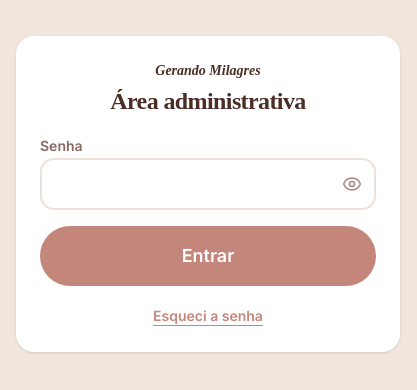
Test: AdminPage › mostra erro com senha errada e não guarda sessão
Type "errada" into the password field labelled "Senha" at (208, 184), box [40,158,376,210]
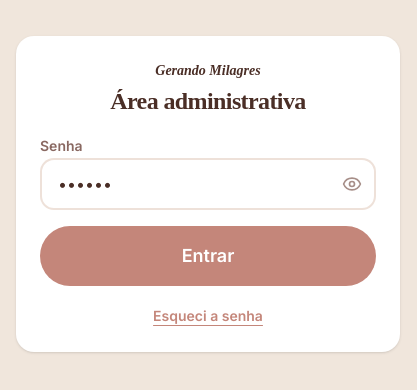
Click the button "Entrar" at (208, 256), box [40,226,376,286]
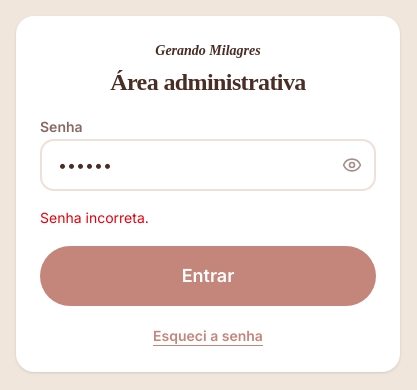
Expected: the message shows "Senha incorreta", [40,209,149,226]
